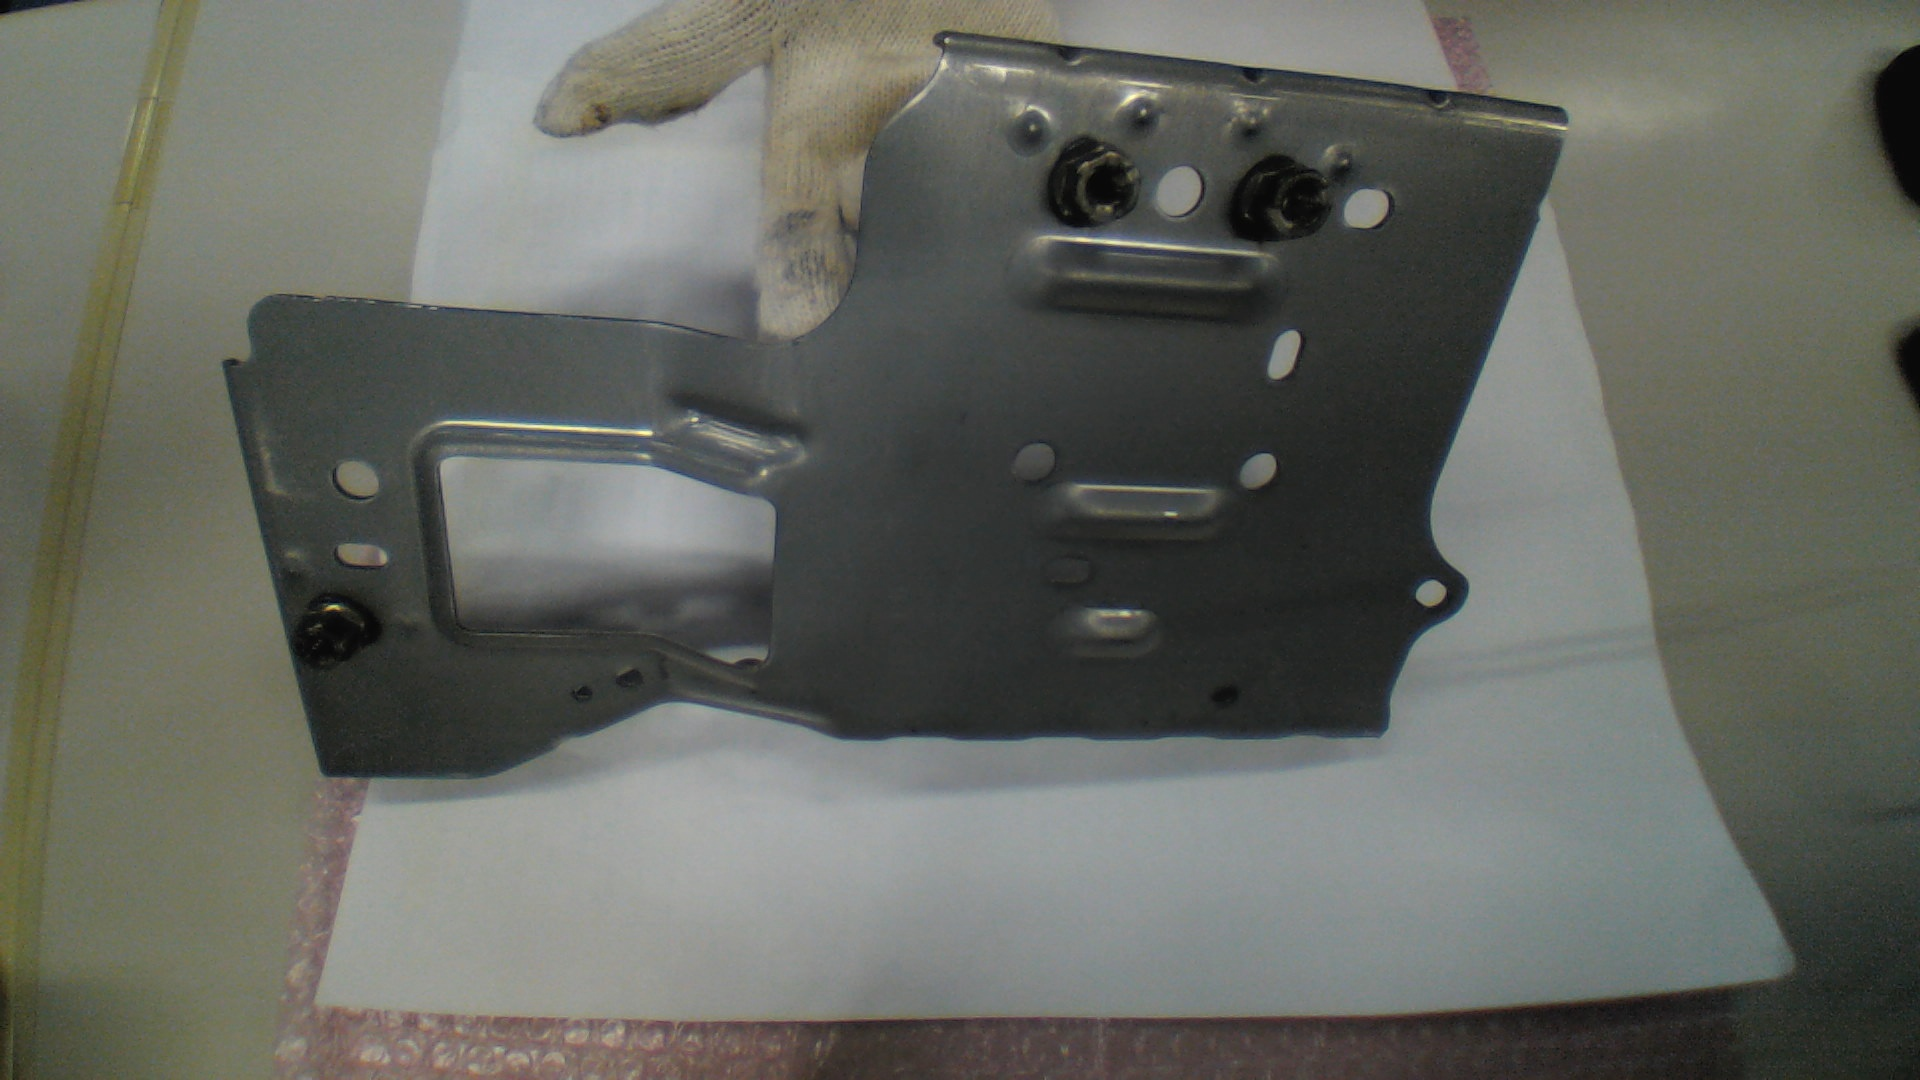dog: (1228, 156, 1333, 243), (1044, 137, 1143, 229), (289, 593, 378, 670)
